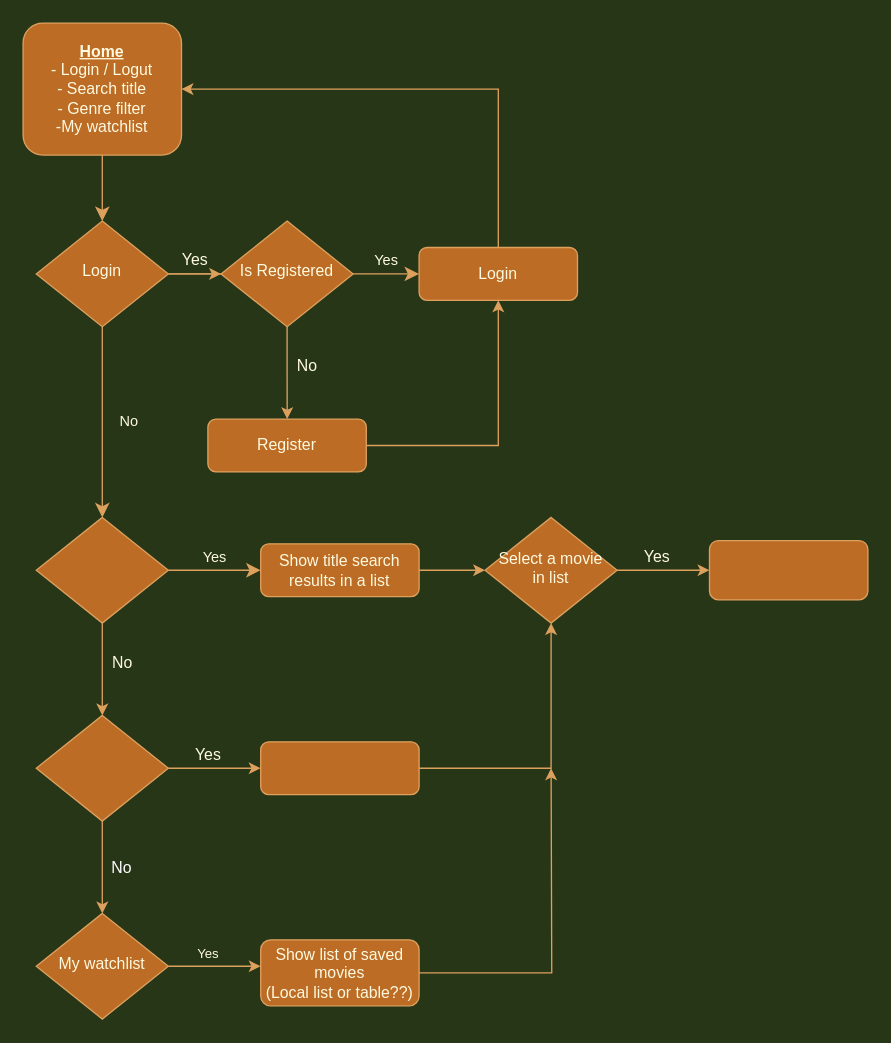
The diagram is 891 pixels wide and 1043 high, and some of its shapes have lost their labels. The centre of each missing label's shape, as x and y in pixels:
Genre filter: (101,767)
Search Title: (101,569)
Show list of movies with filtered genre: (339,768)
Show movie info Show movie reviews: (788,569)
